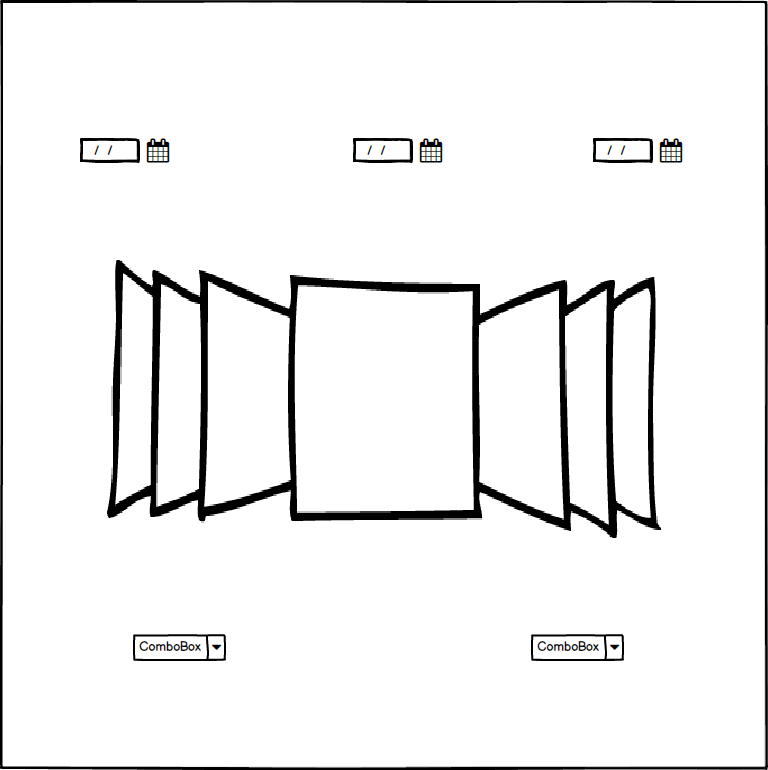date_picker: (345, 126, 452, 169), (71, 129, 177, 169), (585, 128, 691, 168)
select_box: (526, 628, 633, 675), (125, 626, 233, 669)
slideshow: (96, 254, 671, 546)
